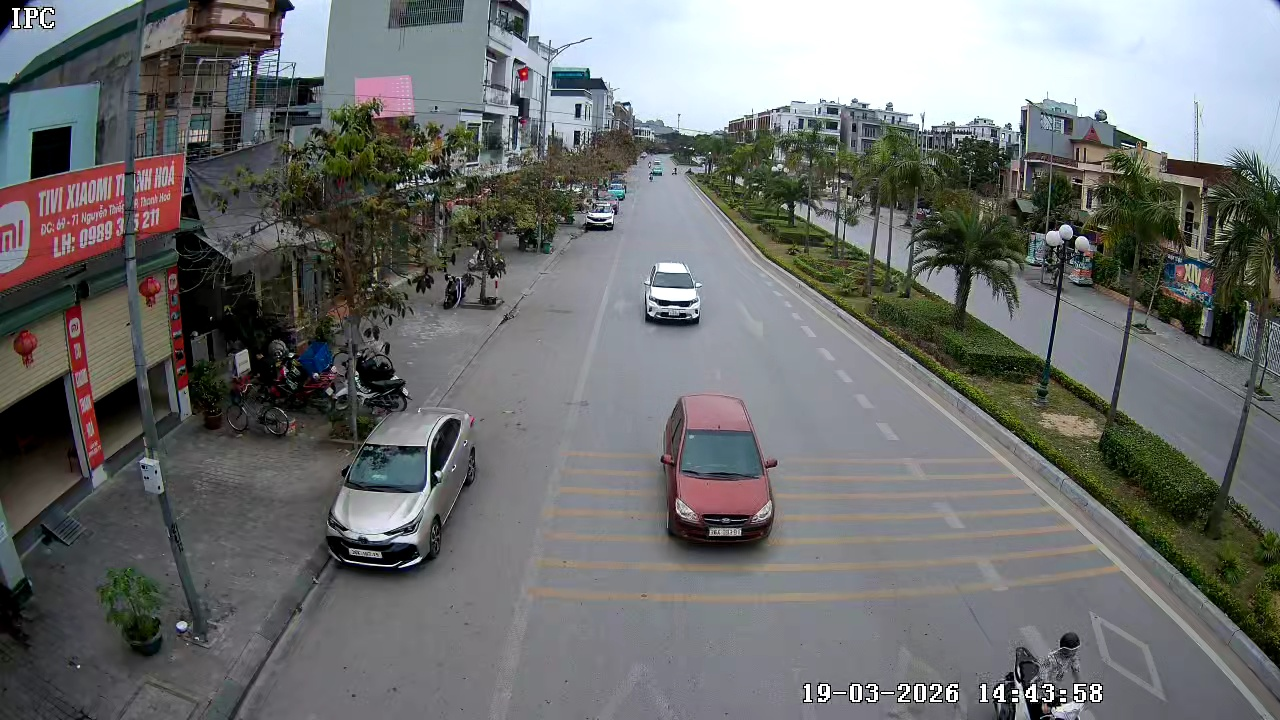car: (325, 405, 479, 572), (659, 392, 779, 545), (640, 260, 704, 326), (582, 198, 618, 231)
motorbike: (350, 326, 413, 413)
